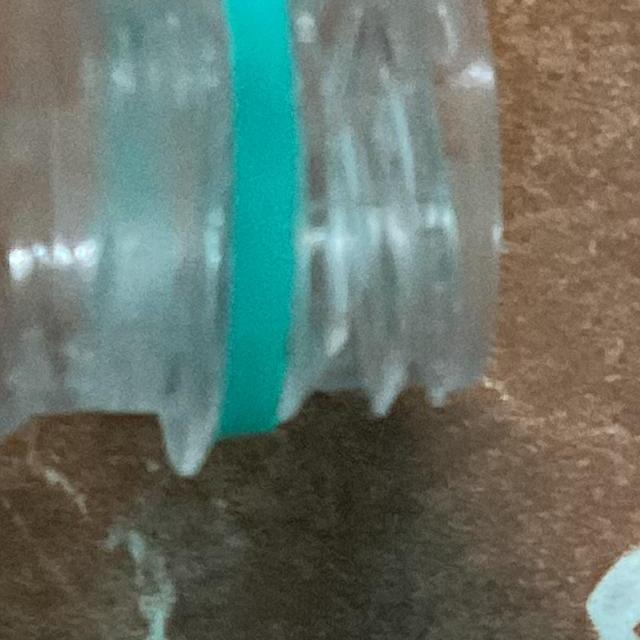open-cap: (177, 0, 514, 429)
